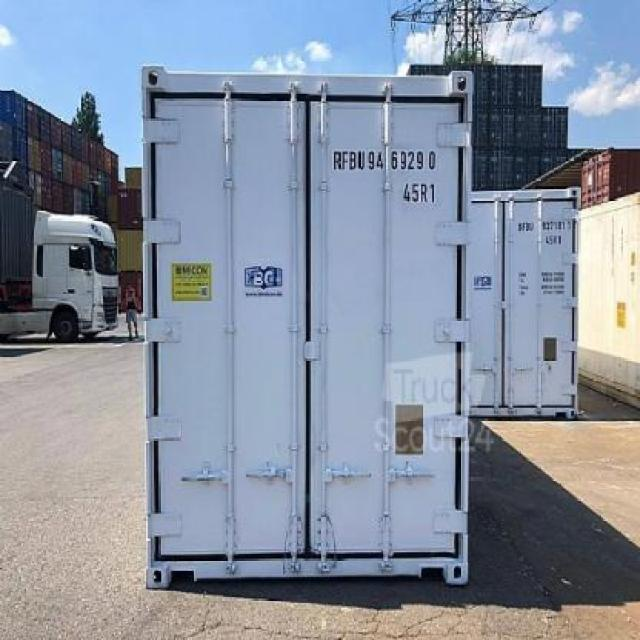ISO: (402, 179, 438, 204)
container_number: (331, 149, 438, 171)
